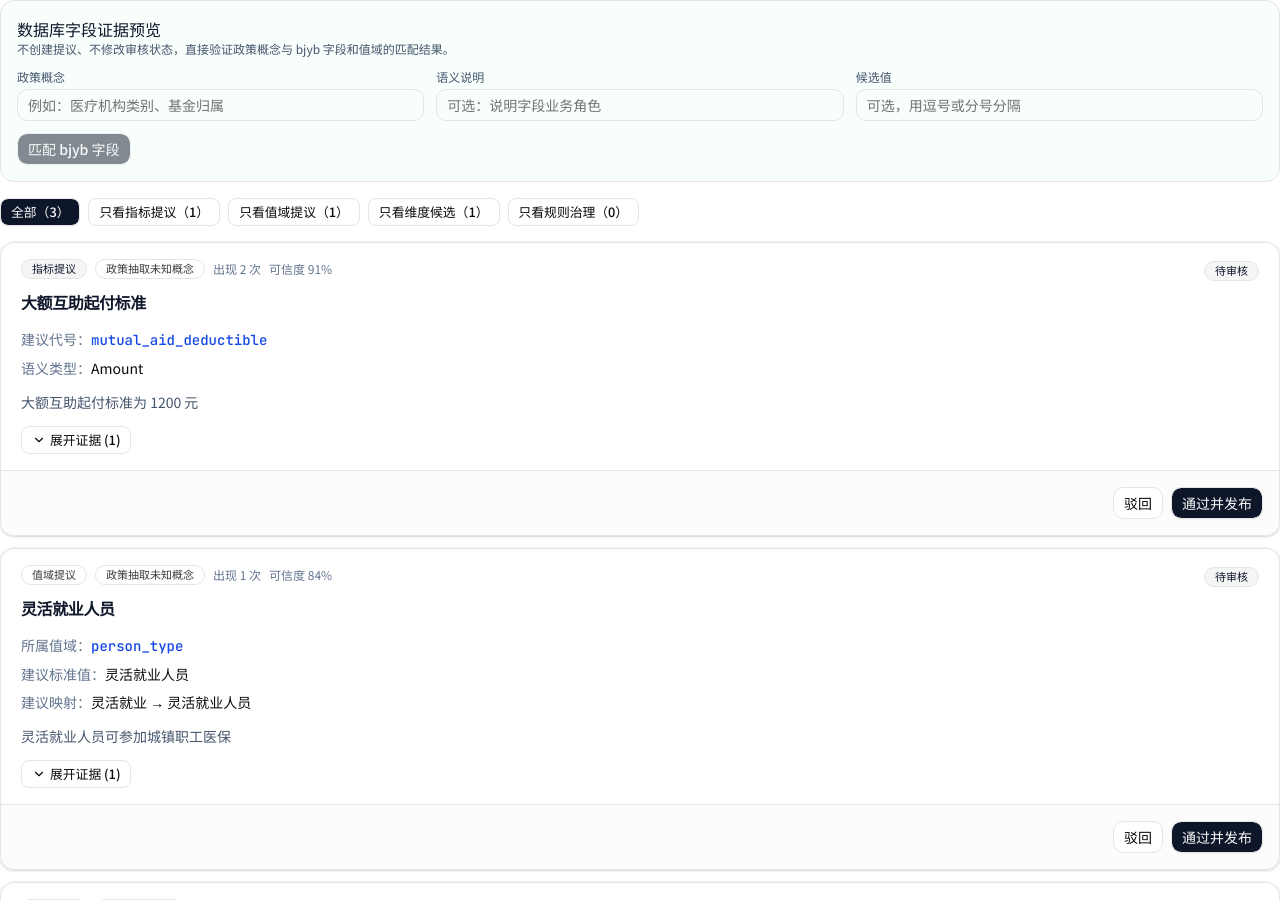
Scenario: SemanticProposalsPage › filters the unified list by proposal type
Check: the text "mutual_aid_deductible" is shown, box [91,331,267,349]
Click the button "只看指标提议（1）" at (154, 212), box [88,198,220,226]
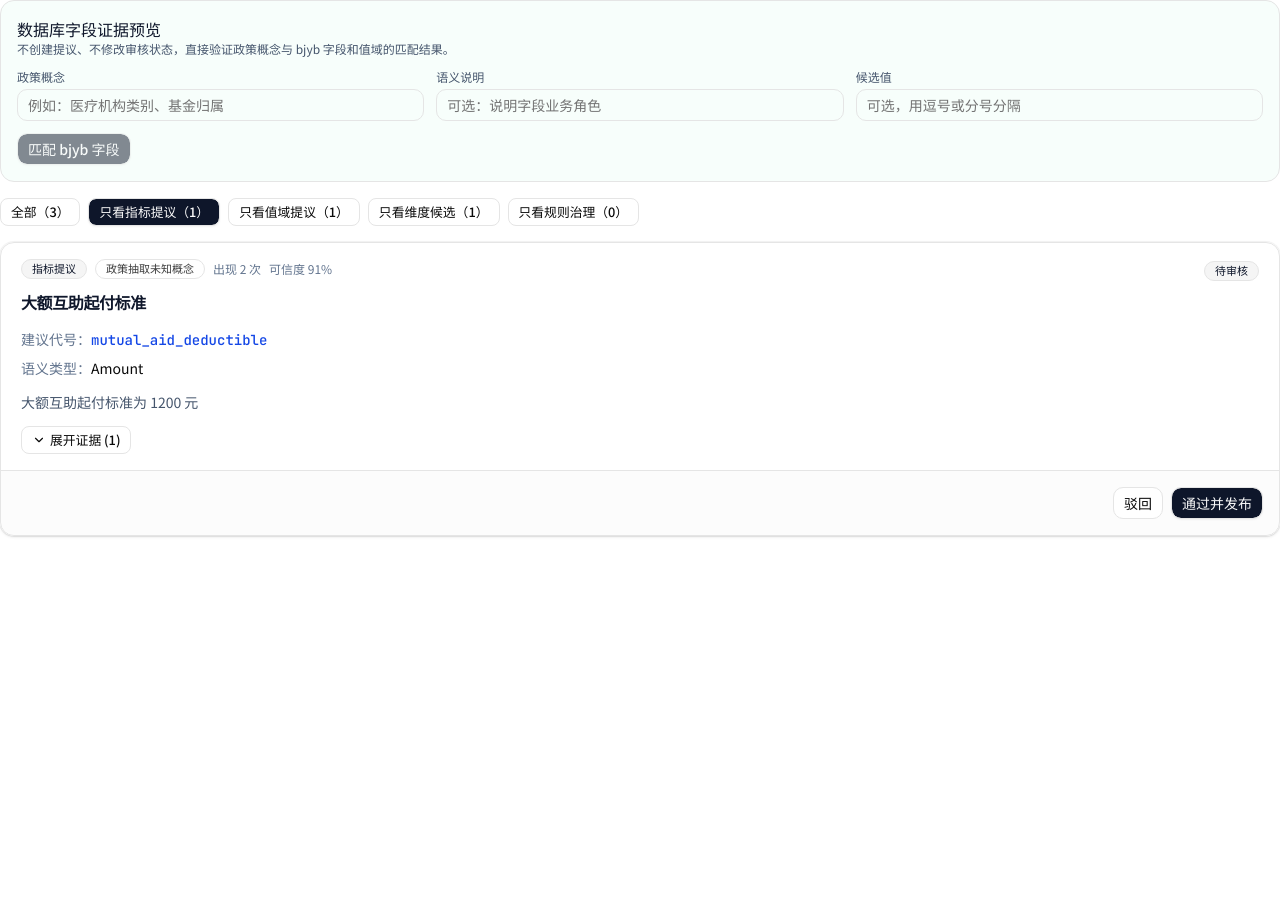
Check: the text "mutual_aid_deductible" is shown, box [91,331,267,349]
Check: the text "person_type" is gone
Click the button "只看维度候选（1）" at (434, 212), box [368,198,500,226]
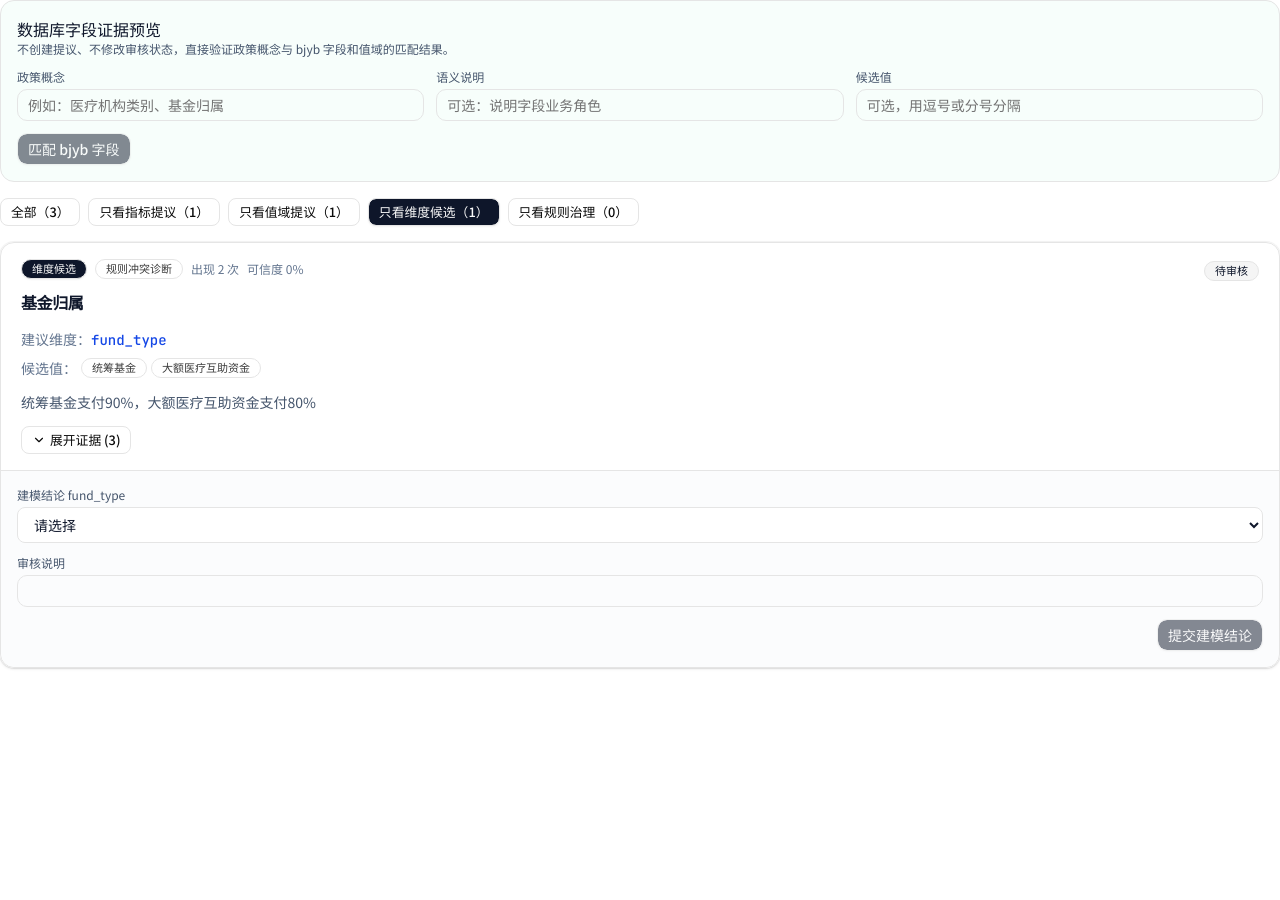
Check: the text "fund_type" is shown, box [91,331,167,349]
Check: the text "mutual_aid_deductible" is gone
